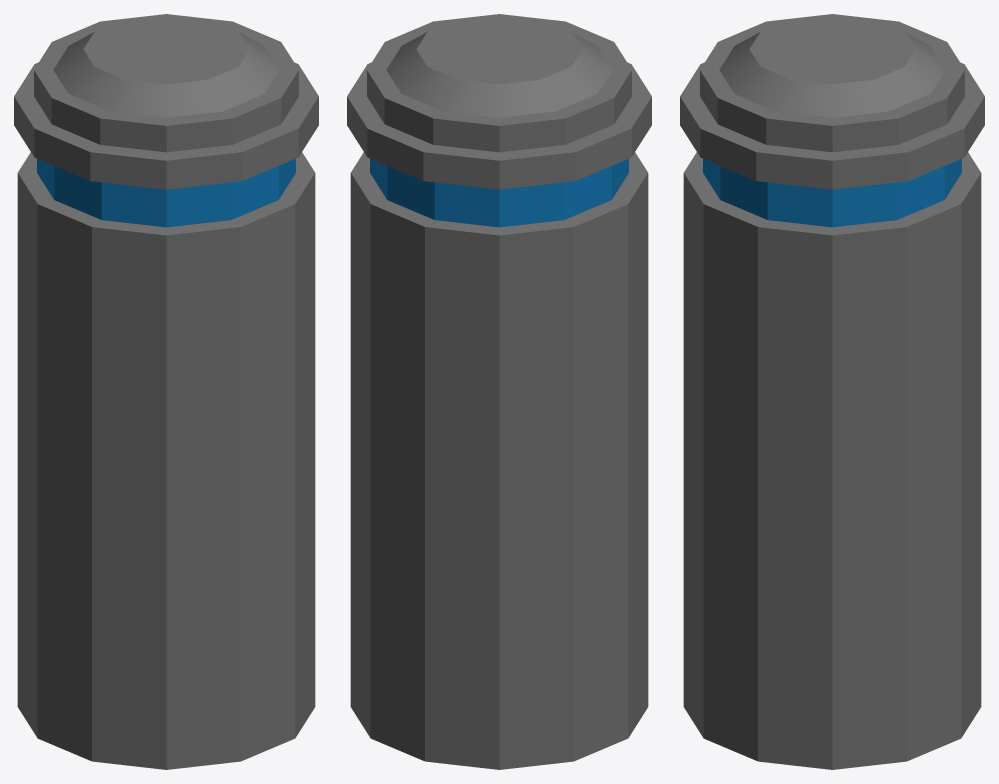
The model's file is tower.fbx.
3 views of the same model, side by side, from view 1: azimuth 30°, elevation 25°; view 2: azimuth 150°, elevation 25°; view 3: azimuth 270°, elevation 25° (orthographic).
Visible parts, largest first — view 1: Tower; view 2: Tower; view 3: Tower.
Part boxes in pixels (bbox=[...]): Tower: bbox=[14, 14, 318, 769]; Tower: bbox=[347, 14, 651, 769]; Tower: bbox=[680, 14, 984, 769].
Size of the model in its own units: 2.05 by 4.88 by 2.05.
